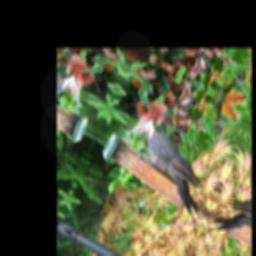Woodpecker: (110, 103, 227, 220)
